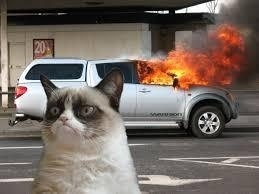fire: (135, 28, 246, 90)
